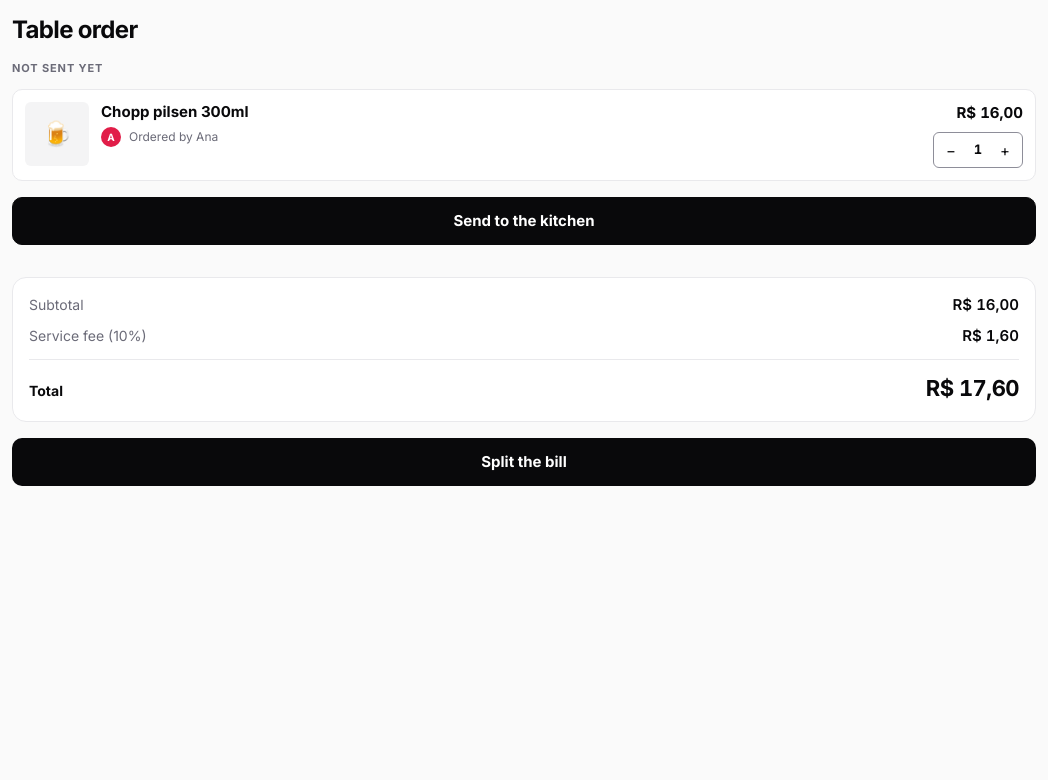
Scenario: OrderPage › removes a line when its quantity drops to zero
Click the button named "Decrease quantity".
click(951, 150)  # box [934,133,968,167]
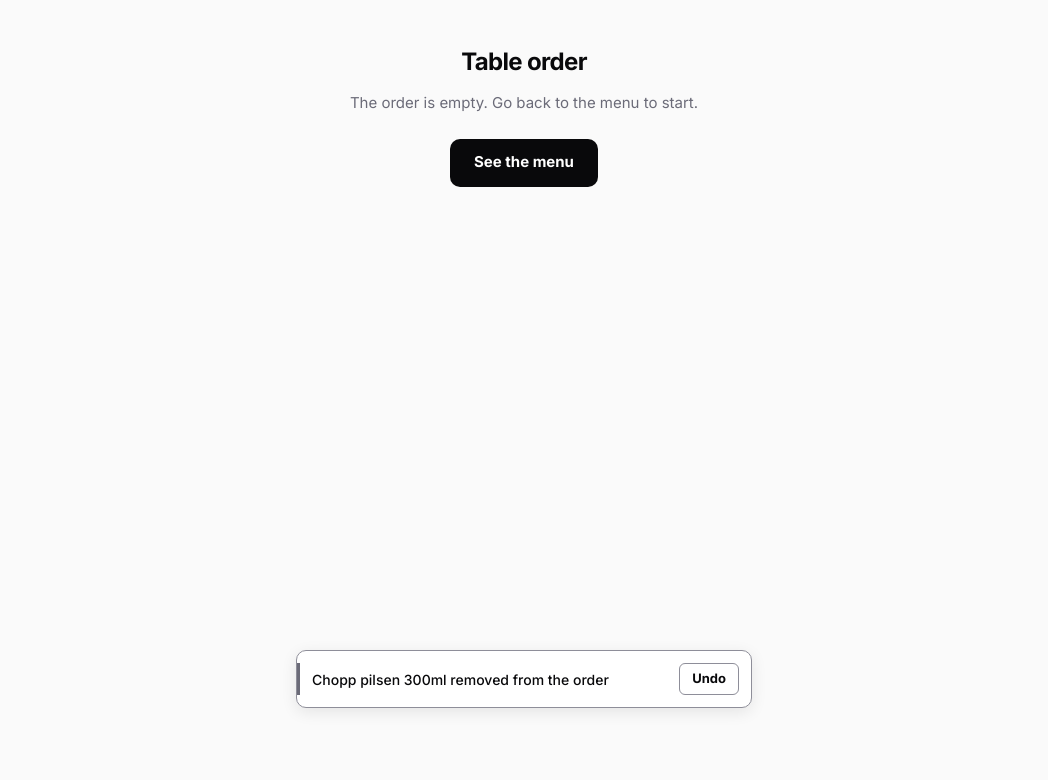
Expected: the text "The order is empty. Go back to the menu to start." is shown, [350,93,698,112]
